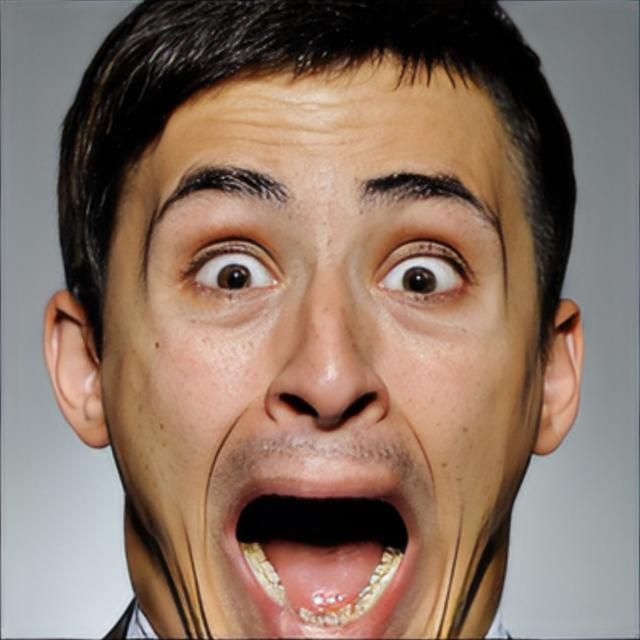fear: (100, 56, 544, 640)
